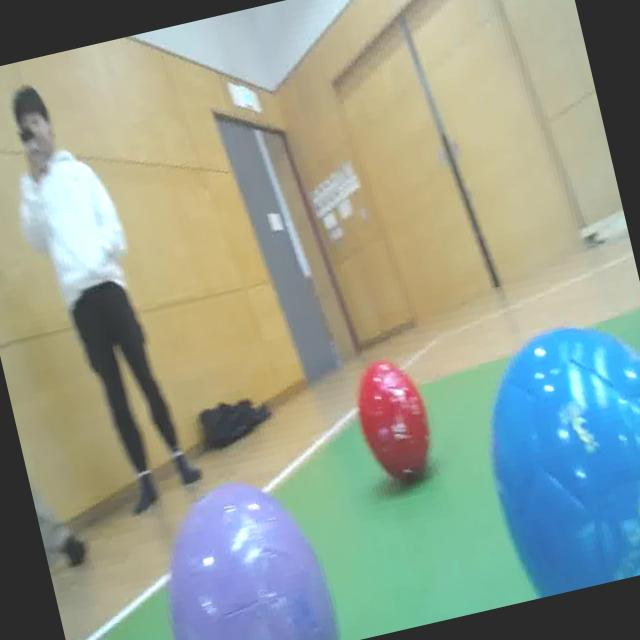blue_ball: (463, 311, 640, 601)
purple_ball: (145, 472, 345, 640)
red_ball: (349, 352, 440, 487)
